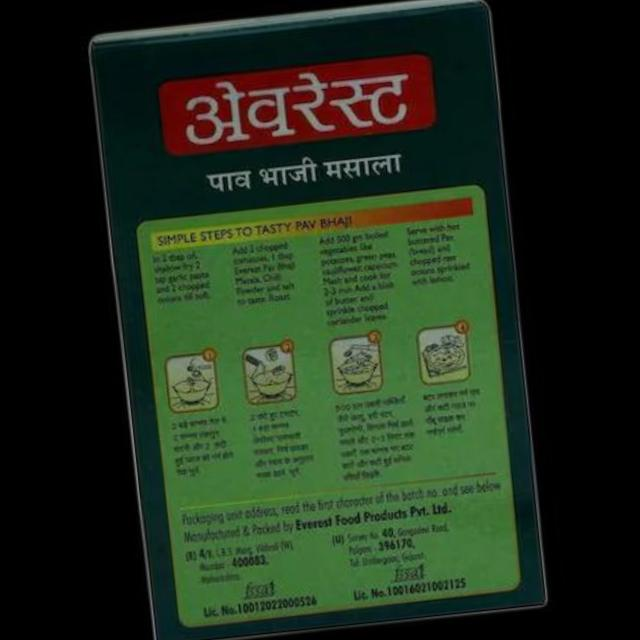Everest Pav Bhaji Masala 100 g: (83, 0, 559, 640)
